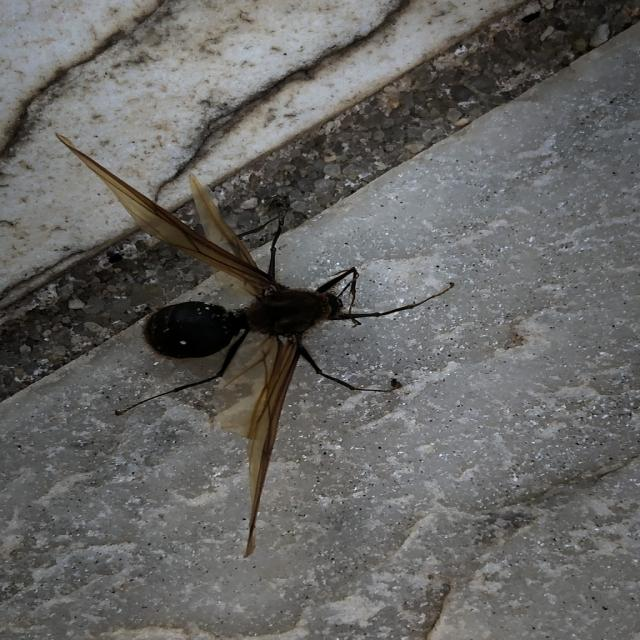Dead-Male-Alate: (55, 133, 455, 558)
